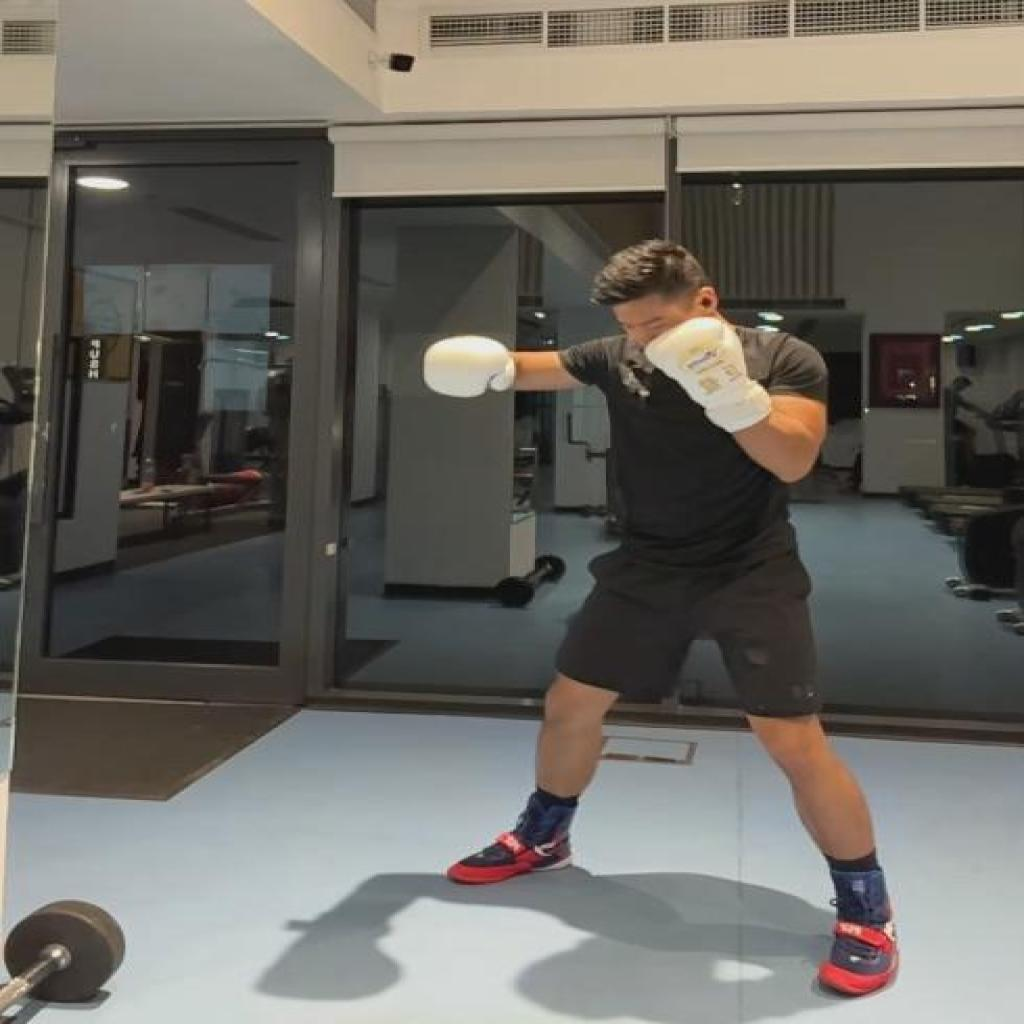hook: (420, 238, 905, 1005)
